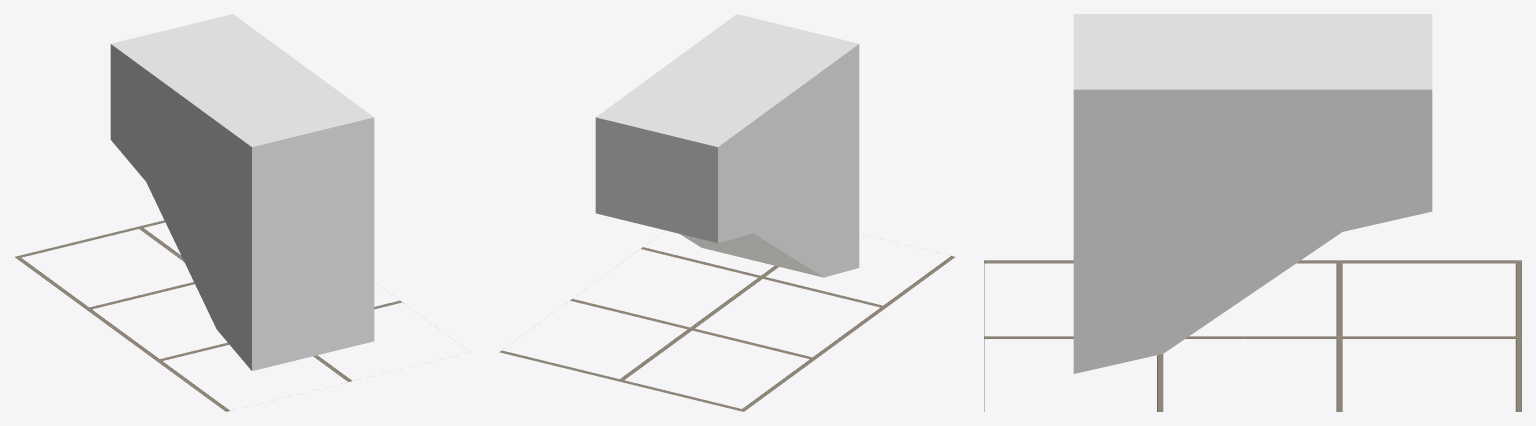
File: Basic_Under_Inner_Incline_1x2.glb
The picture shows the model from 3 angles, left to right: view 1: azimuth 30°, elevation 25°; view 2: azimuth 150°, elevation 25°; view 3: azimuth 270°, elevation 25°; orthographic projection. The views are drawn at different scales.
Visible parts, largest first — view 1: Basic_Under_Inner_Incline_1x2, Floor; view 2: Basic_Under_Inner_Incline_1x2, Floor; view 3: Basic_Under_Inner_Incline_1x2, Floor.
Part boxes in pixels (box(x1,y1,x2,y2)): Basic_Under_Inner_Incline_1x2: box(110, 14, 374, 370); Floor: box(15, 220, 402, 411); Basic_Under_Inner_Incline_1x2: box(595, 14, 859, 277); Floor: box(499, 247, 954, 411); Basic_Under_Inner_Incline_1x2: box(1073, 14, 1432, 373); Floor: box(984, 260, 1521, 411).
Size of the model in its own units: 200 by 175 by 300.
3 materials, 1 textured.
